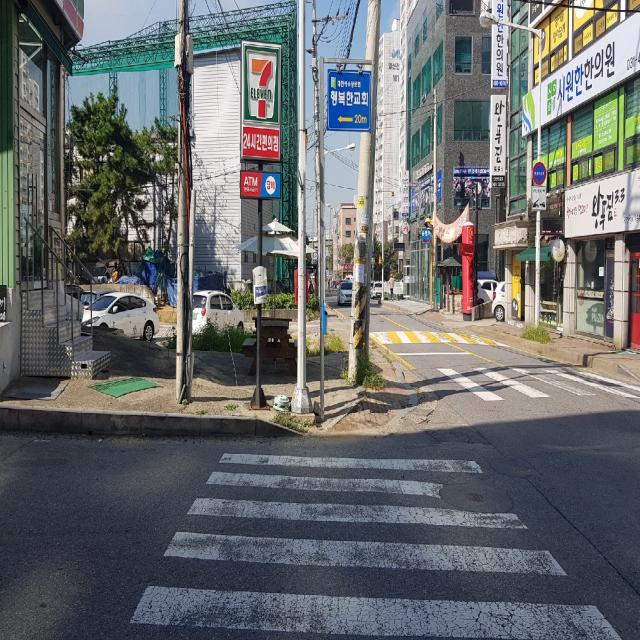횡단보도: (128, 451, 625, 640), (434, 369, 586, 395)
